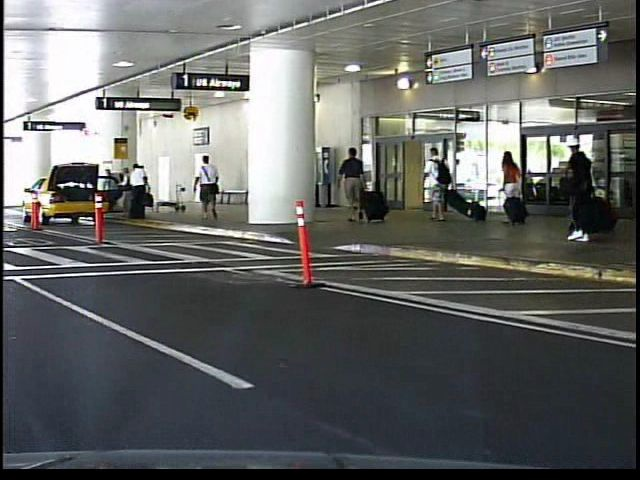person: (556, 133, 604, 245), (496, 145, 531, 231), (418, 142, 455, 223), (337, 143, 369, 226), (194, 153, 226, 226), (186, 164, 208, 211)
